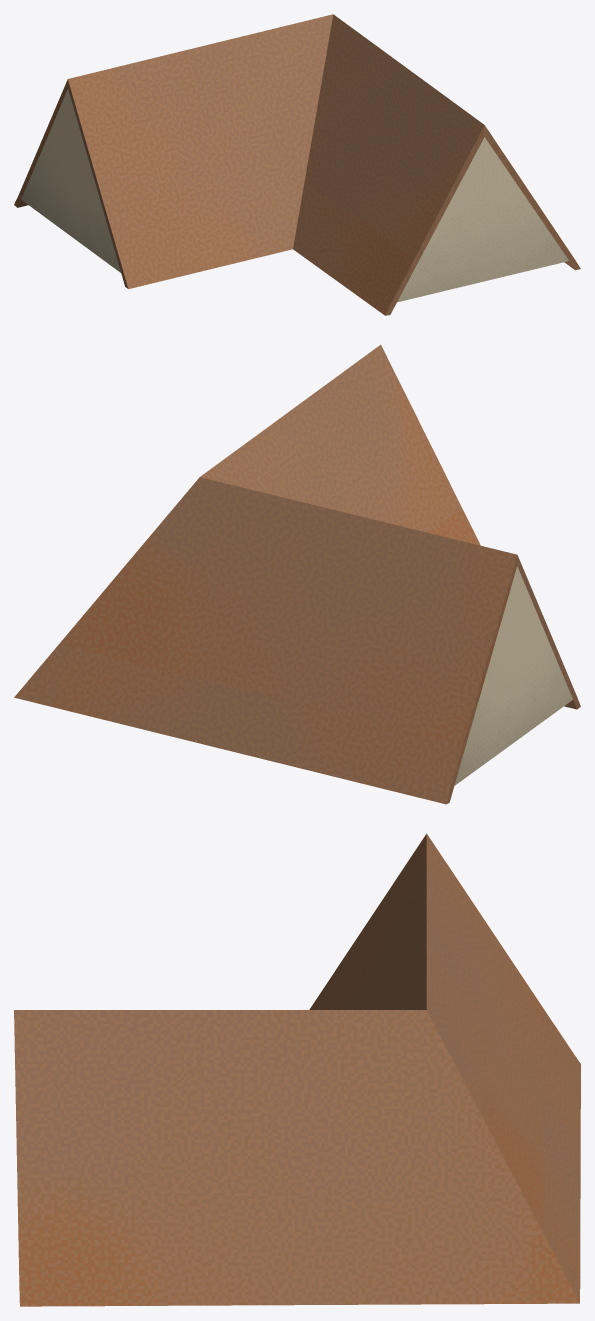
File: house_corner_roof.fbx
3 views of the same model, one above another, from view 1: azimuth 30°, elevation 25°; view 2: azimuth 150°, elevation 25°; view 3: azimuth 270°, elevation 25° (orthographic). The views are drawn at different scales.
Parts seen in each view (by area): view 1: corner_roof; view 2: corner_roof; view 3: corner_roof.
Boxes of the visible parts, left/top/right/bottom form: corner_roof: left=14, top=14, right=580, bottom=315; corner_roof: left=14, top=344, right=580, bottom=804; corner_roof: left=14, top=833, right=580, bottom=1306.
Size of the model in its own units: 32.55 by 14.47 by 32.18.
Materials: 2 (2 with a texture image).
